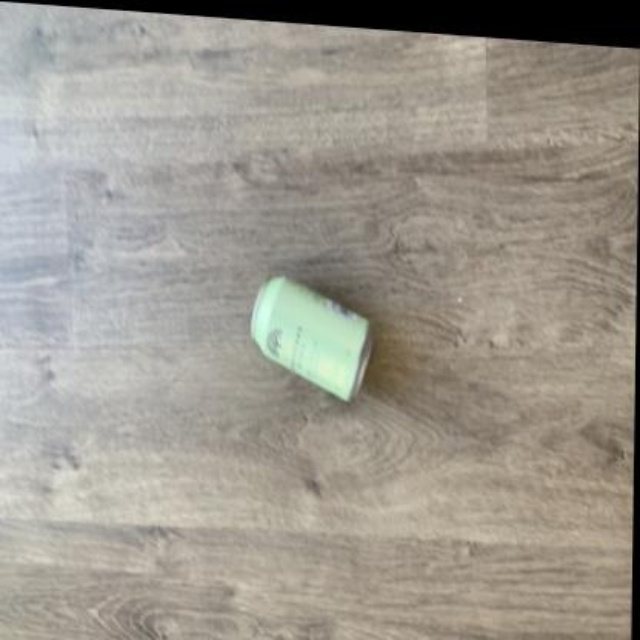trash: (251, 275, 369, 400)
